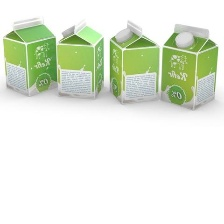carton: (160, 18, 217, 110), (105, 17, 160, 107), (1, 15, 57, 97), (55, 17, 105, 100)
